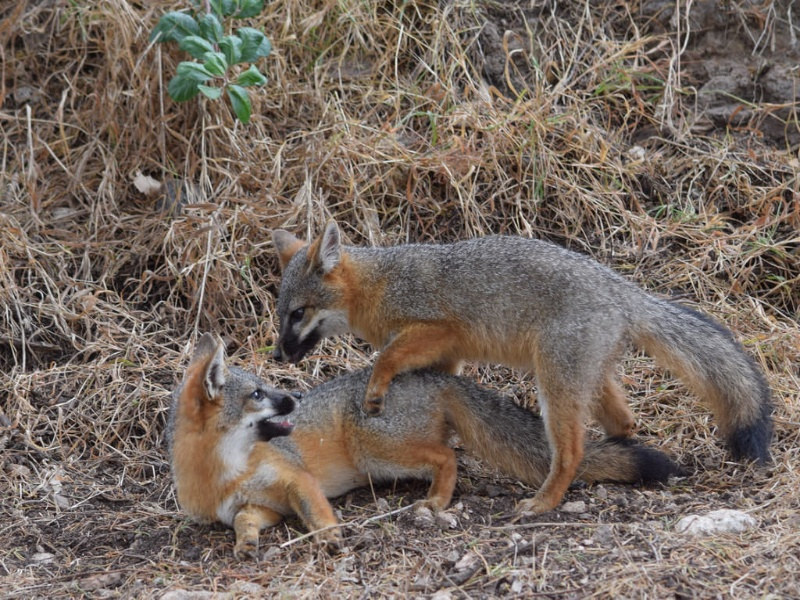fox: (265, 222, 778, 523), (159, 332, 693, 562)
